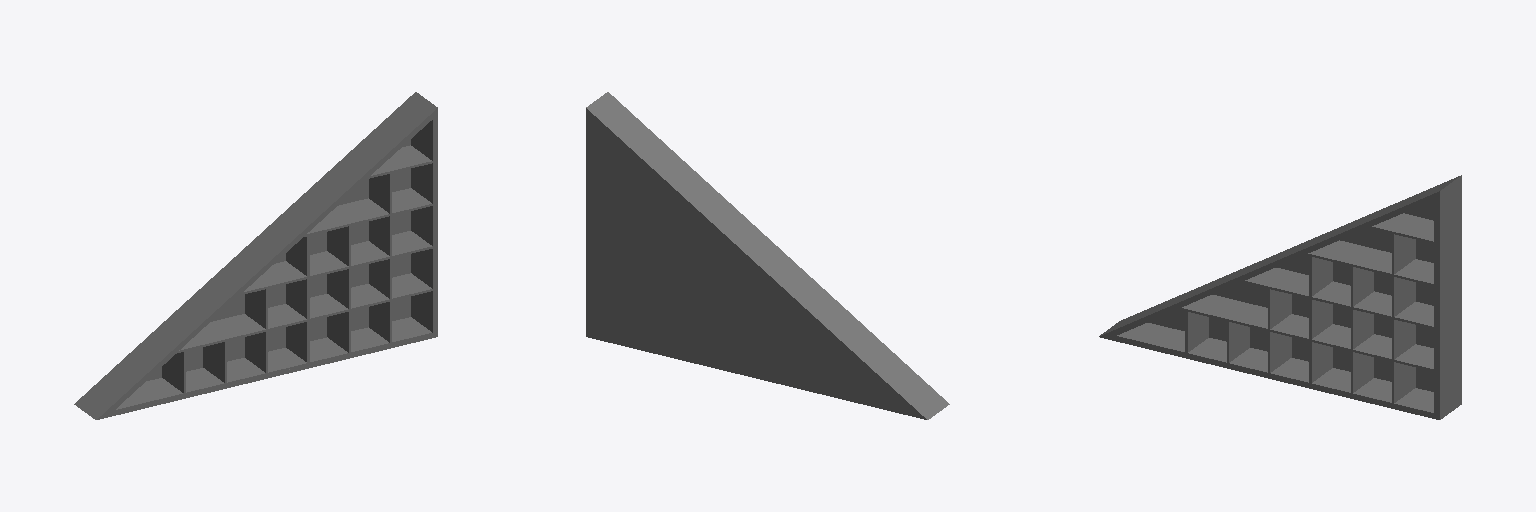
File: SH设计幼儿园Ⅱ238262.obj
3 views of the same model, side by side, from view 1: azimuth 30°, elevation 25°; view 2: azimuth 150°, elevation 25°; view 3: azimuth 330°, elevation 25° (orthographic).
Parts seen in each view (by area): view 1: SH设计幼儿园Ⅱ238262; view 2: SH设计幼儿园Ⅱ238262; view 3: SH设计幼儿园Ⅱ238262.
Boxes of the visible parts, <box> form: SH设计幼儿园Ⅱ238262: <box>74,92,437,419</box>; SH设计幼儿园Ⅱ238262: <box>586,92,949,419</box>; SH设计幼儿园Ⅱ238262: <box>1099,175,1461,419</box>.
Bounding box in the file's own units: 3.12 × 2 × 0.35.